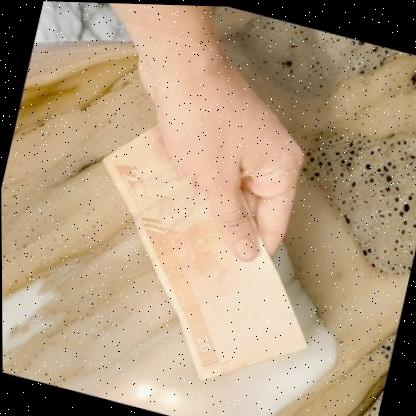twenty-back-vef: (57, 108, 349, 405)
